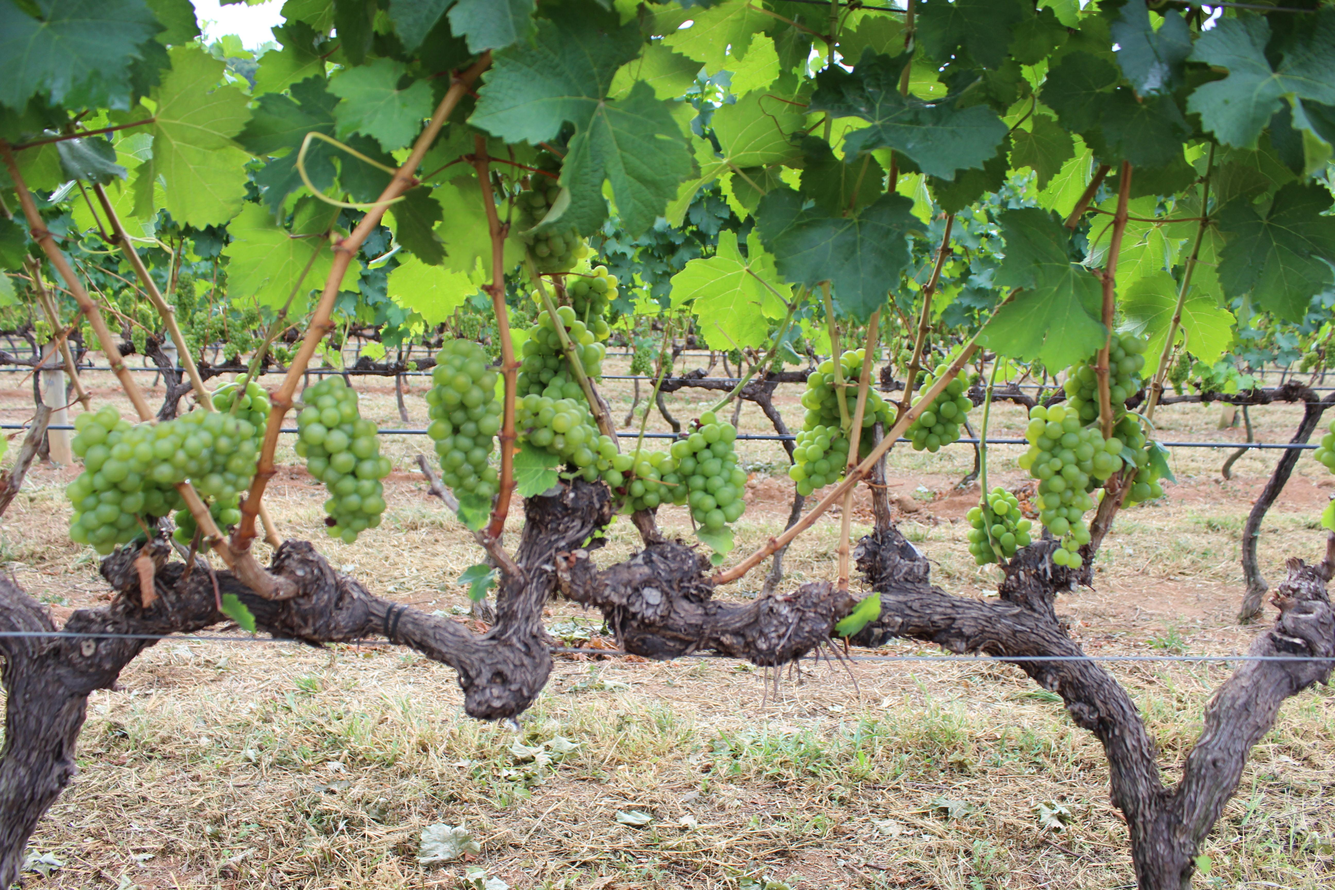leaf: (470, 6, 693, 236), (809, 53, 1007, 180), (757, 189, 922, 321), (1187, 7, 1335, 147), (136, 46, 250, 227), (978, 208, 1107, 367), (0, 0, 162, 110), (1217, 182, 1335, 320), (671, 230, 791, 350), (223, 204, 333, 315), (328, 58, 434, 152), (1110, 0, 1193, 96), (916, 0, 1032, 68), (388, 256, 478, 325), (1120, 272, 1177, 374), (254, 20, 325, 95), (1010, 114, 1074, 189), (448, 0, 534, 53), (386, 187, 444, 265), (1180, 289, 1235, 364), (56, 137, 127, 185), (389, 0, 454, 52), (514, 442, 560, 497), (834, 592, 881, 637), (458, 563, 497, 602), (221, 593, 256, 633), (342, 260, 361, 289), (136, 201, 140, 212), (159, 46, 160, 52), (149, 195, 150, 198)
